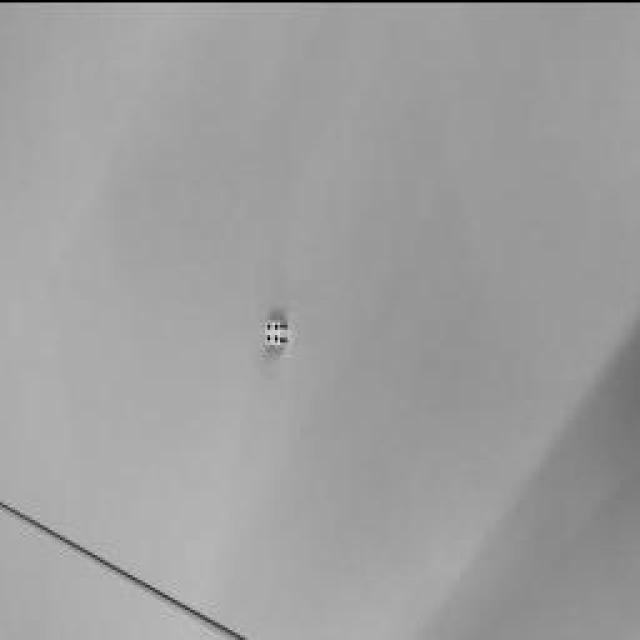dice_4: (265, 319, 280, 341)
